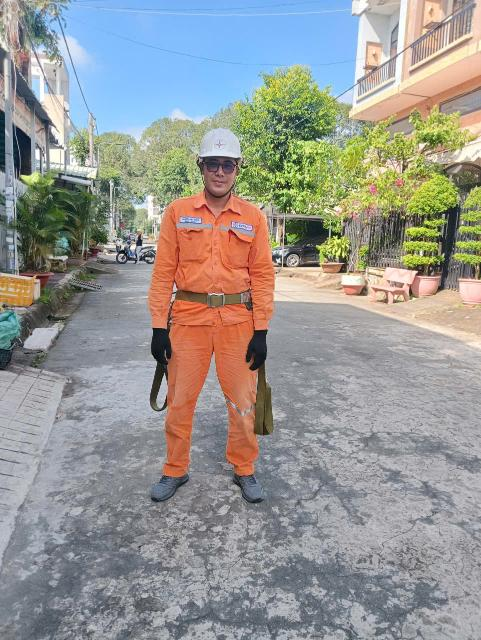gloves: (141, 321, 179, 367), (248, 327, 272, 370)
harness: (172, 272, 270, 317)
helmet: (188, 123, 250, 173)
shoes: (139, 447, 200, 510), (225, 450, 270, 513)
